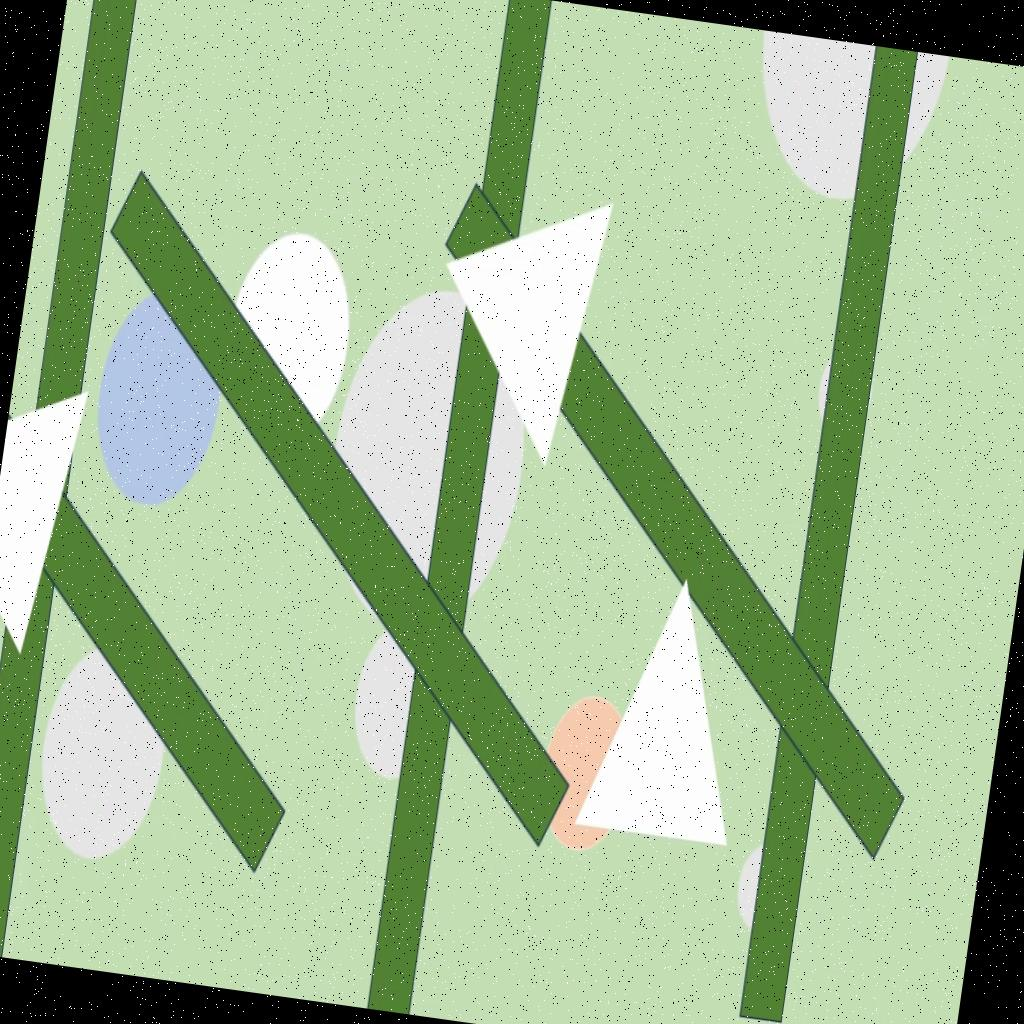Circle: (318, 272, 548, 628), (742, 30, 950, 210), (211, 222, 364, 454), (28, 638, 178, 872), (86, 284, 234, 518), (345, 616, 454, 787), (534, 686, 635, 855), (733, 844, 786, 936), (815, 352, 860, 430)
